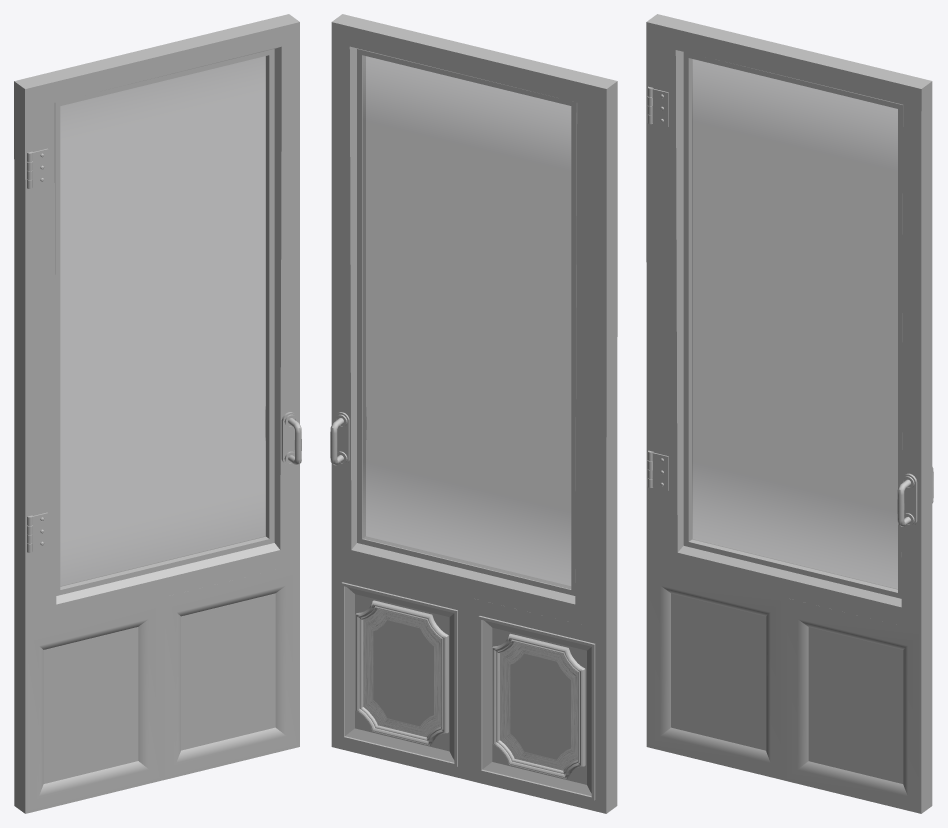
The model's file is SM_BuildingFacade_StoreFront_400uu_06_Door.fbx.
The picture shows the model from 3 angles, left to right: view 1: azimuth 30°, elevation 25°; view 2: azimuth 150°, elevation 25°; view 3: azimuth 330°, elevation 25°; orthographic projection.
Parts seen in each view (by area): view 1: SM_BuildingFacade_StoreFront_400uu_06_Door; view 2: SM_BuildingFacade_StoreFront_400uu_06_Door; view 3: SM_BuildingFacade_StoreFront_400uu_06_Door.
Boxes of the visible parts, x1=… form: SM_BuildingFacade_StoreFront_400uu_06_Door: x1=14, y1=14, x2=301, y2=813; SM_BuildingFacade_StoreFront_400uu_06_Door: x1=330, y1=14, x2=617, y2=813; SM_BuildingFacade_StoreFront_400uu_06_Door: x1=646, y1=14, x2=933, y2=813.
Bounding box in the file's own units: 134 × 339 × 27.86.
